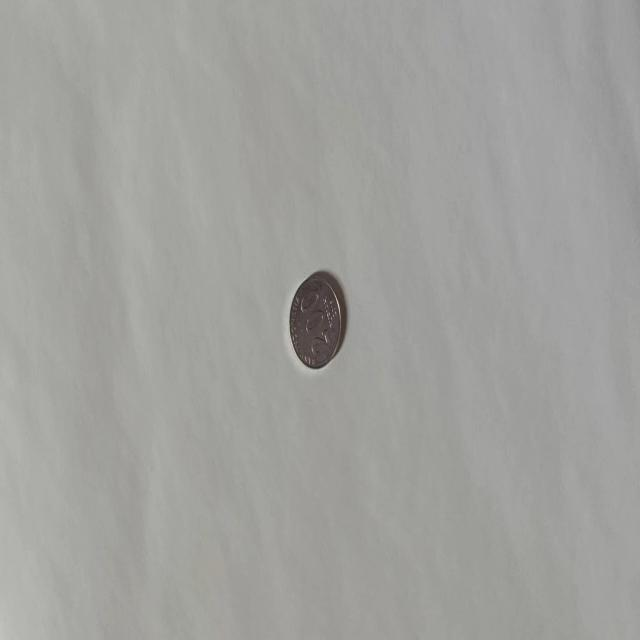dua ratus rupiah: (288, 271, 342, 370)
